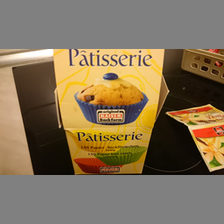cake: (52, 49, 168, 174)
